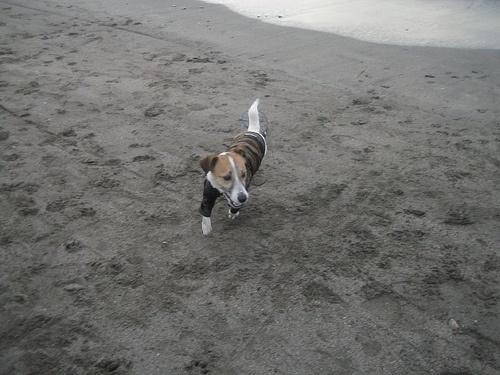dog: (196, 96, 273, 238)
